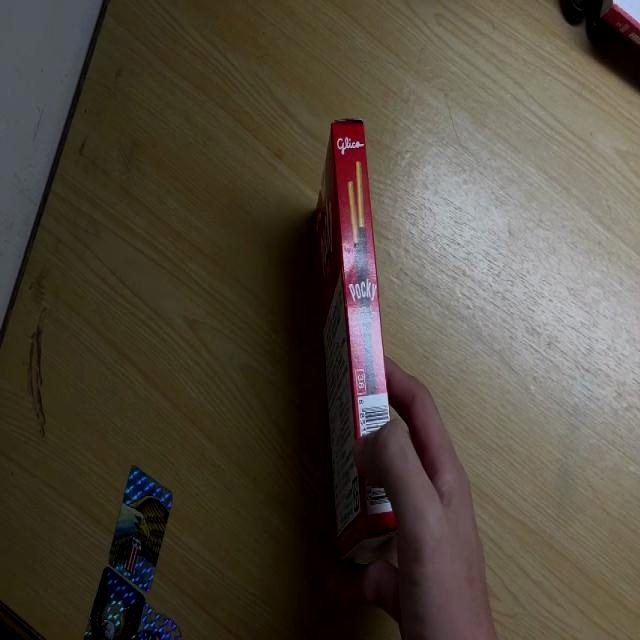Pocky: (312, 117, 398, 570)
